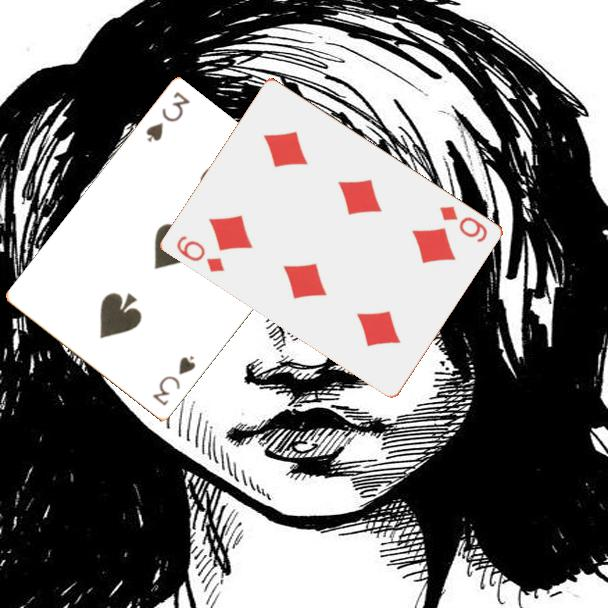d06: (436, 202, 491, 245), (173, 232, 228, 275)
s03: (142, 88, 193, 145), (149, 353, 199, 410)
